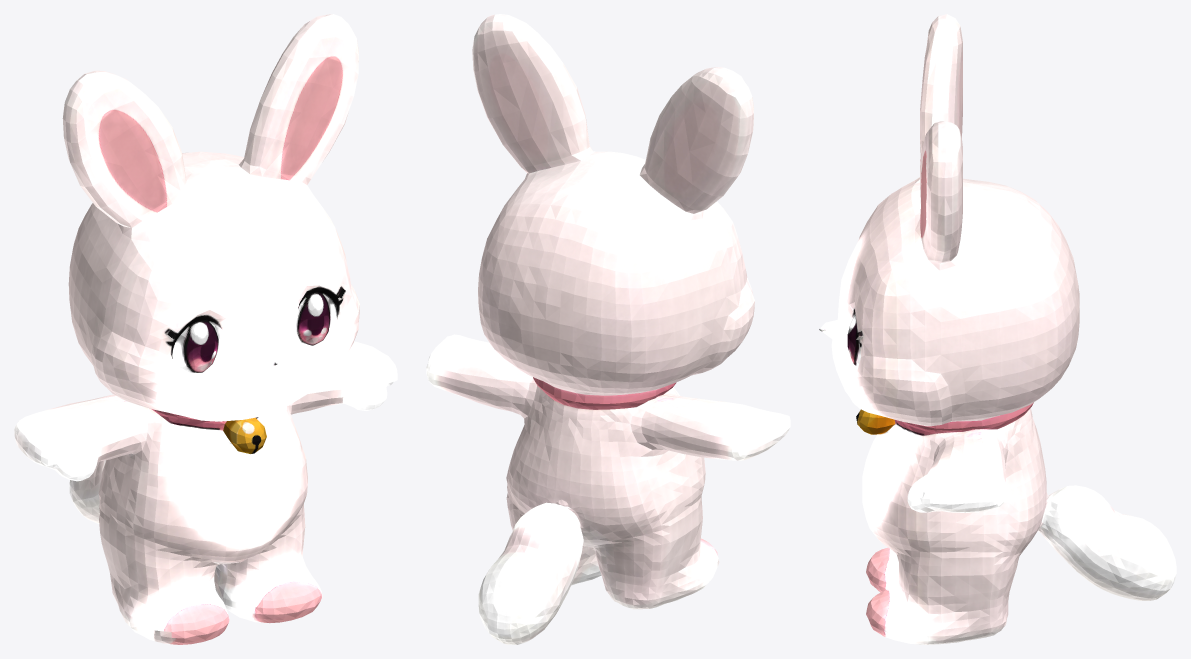
Rendered from うさぎ.glb.
The picture shows the model from 3 angles, left to right: view 1: azimuth 30°, elevation 25°; view 2: azimuth 150°, elevation 25°; view 3: azimuth 270°, elevation 25°; orthographic projection. The views are drawn at different scales.
Parts seen in each view (by area): view 1: Mesh_0; view 2: Mesh_0; view 3: Mesh_0.
Part boxes in pixels (<box>): Mesh_0: <box>14,14,397,644</box>; Mesh_0: <box>426,14,790,644</box>; Mesh_0: <box>819,14,1176,644</box>.
Bounding box in the file's own units: 0.0796 × 0.12 × 0.0717.
1 material, 1 textured.
